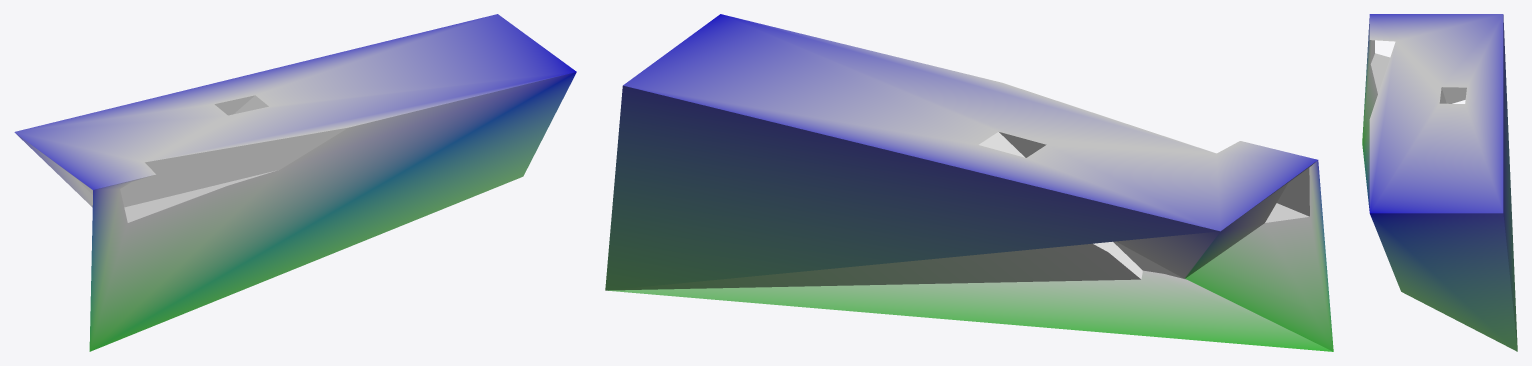
3 views of the same model, side by side, from view 1: azimuth 30°, elevation 25°; view 2: azimuth 150°, elevation 25°; view 3: azimuth 270°, elevation 25° (orthographic). The views are drawn at different scales.
Parts seen in each view (by area): view 1: Cube; view 2: Cube; view 3: Cube.
Boxes of the visible parts, box(x1,y1,x2,y2) form: Cube: box(14, 14, 576, 351); Cube: box(605, 14, 1333, 351); Cube: box(1362, 14, 1517, 351).
Size of the model in its own units: 7.26 by 2.25 by 2.33.
